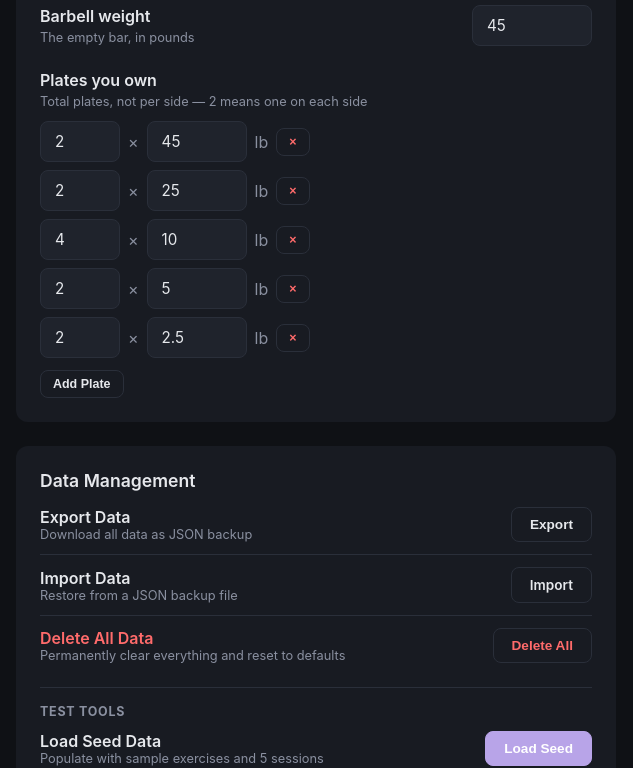
Test: SettingsPage — barbell setup › adds and removes plate rows, persisting both
(page scrolled)
Step 1. Click the button "Add Plate" → [82, 384], box [40, 370, 124, 398]
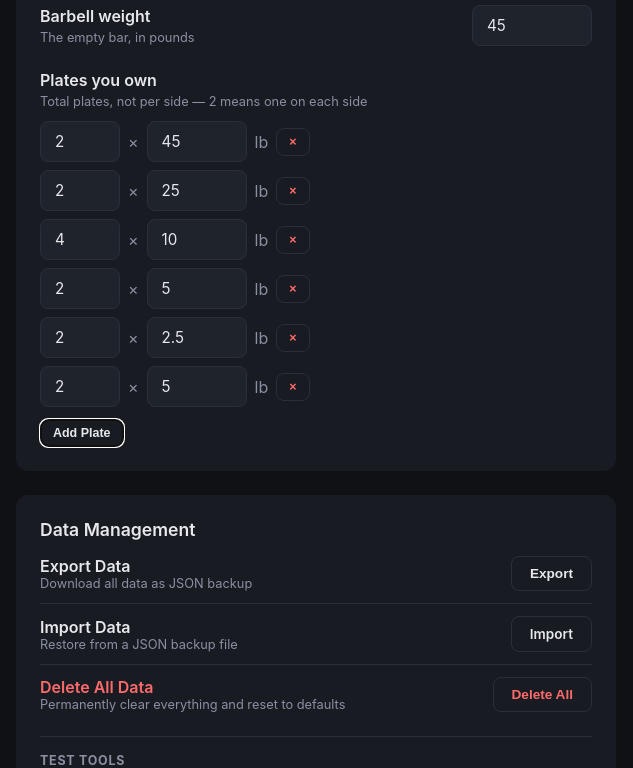
Now the number of number fields named "Plate 1 count" is 6, box [40, 121, 120, 162]; [40, 170, 120, 211]; [40, 219, 120, 260]; [40, 268, 120, 309]; [40, 317, 120, 358]; [40, 366, 120, 407]
Step 2. Click the button named "Remove plate" → [293, 142], box [276, 128, 310, 156]
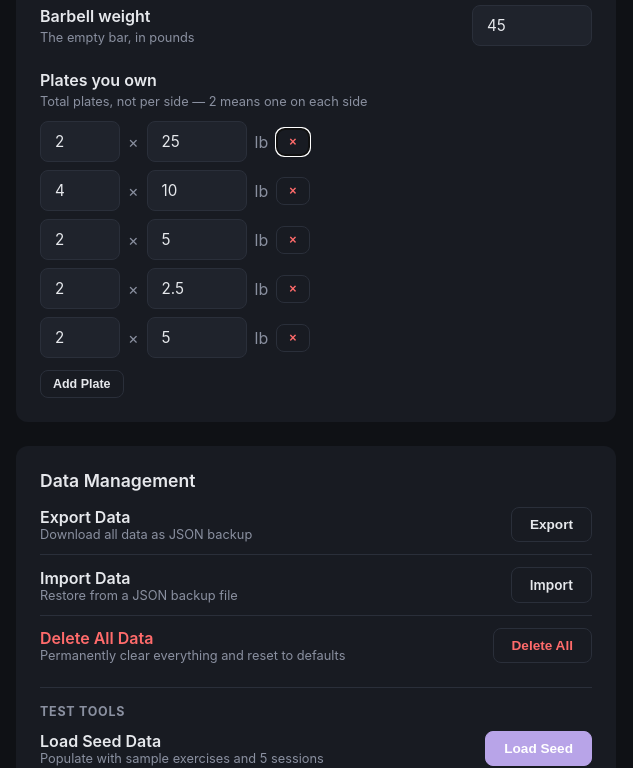
Now the number of number fields named "Plate 1 count" is 5, box [40, 121, 120, 162]; [40, 170, 120, 211]; [40, 219, 120, 260]; [40, 268, 120, 309]; [40, 317, 120, 358]
